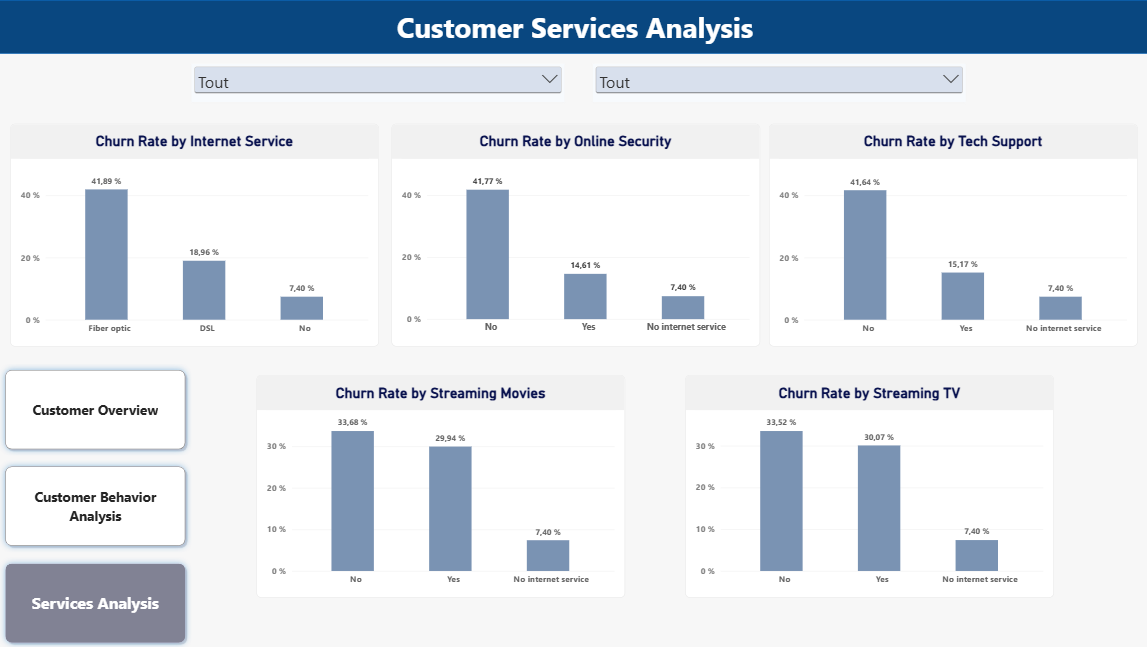

Layout of this report page (visuals, bound fields, positions):
{"tool":"powerbi","page":{"name":"Services Analysis","canvas":[1920,1080],"ordinal":2},"visuals":[{"type":"shape","box":[0,0,1919.7,89.3],"z":0},{"type":"clusteredColumnChart","title":"Churn Rate by Internet Service","fields":{"Category":["Telco-Customer-Churn.InternetService"],"Y":["Telco-Customer-Churn.Churn Rate"]},"box":[17.9,205.4,614.3,371.4],"z":1000},{"type":"clusteredColumnChart","title":"Churn Rate by Online Security","fields":{"Category":["Telco-Customer-Churn.OnlineSecurity"],"Y":["Telco-Customer-Churn.Churn Rate"]},"box":[653.6,205.4,614.3,371.4],"z":2000},{"type":"clusteredColumnChart","title":"Churn Rate by Tech Support","fields":{"Category":["Telco-Customer-Churn.TechSupport"],"Y":["Telco-Customer-Churn.Churn Rate"]},"box":[1283.9,205.4,614.3,371.4],"z":3000},{"type":"clusteredColumnChart","title":"Churn Rate by Streaming TV","fields":{"Category":["Telco-Customer-Churn.StreamingTV"],"Y":["Telco-Customer-Churn.Churn Rate"]},"box":[1142.9,625,614.3,371.4],"z":4000},{"type":"clusteredColumnChart","title":"Churn Rate by Streaming Movies","fields":{"Category":["Telco-Customer-Churn.StreamingMovies"],"Y":["Telco-Customer-Churn.Churn Rate"]},"box":[428.6,625,614.3,371.4],"z":5000},{"type":"slicer","fields":{"Values":["Telco-Customer-Churn.Contract"]},"box":[321.4,107.1,621.4,64.3],"z":6000},{"type":"slicer","fields":{"Values":["Telco-Customer-Churn.InternetService"]},"box":[989.3,107.1,621.4,64.3],"z":7000},{"type":"pageNavigator","box":[0,605.4,321.4,475],"z":8000}]}

Visuals, with their boxes in screenshot pixels (x1, y1, x2, y2), scaled from the page's 1920x1080 canvas onto the 1147x647 screenshot:
shape: (x1=0, y1=0, x2=1146, y2=53)
"Churn Rate by Internet Service" clusteredColumnChart: (x1=11, y1=123, x2=378, y2=346)
"Churn Rate by Online Security" clusteredColumnChart: (x1=390, y1=123, x2=757, y2=346)
"Churn Rate by Tech Support" clusteredColumnChart: (x1=767, y1=123, x2=1134, y2=346)
"Churn Rate by Streaming TV" clusteredColumnChart: (x1=683, y1=374, x2=1050, y2=597)
"Churn Rate by Streaming Movies" clusteredColumnChart: (x1=256, y1=374, x2=623, y2=597)
slicer - Telco-Customer-Churn.Contract: (x1=192, y1=64, x2=563, y2=103)
slicer - Telco-Customer-Churn.InternetService: (x1=591, y1=64, x2=962, y2=103)
pageNavigator: (x1=0, y1=363, x2=192, y2=646)
